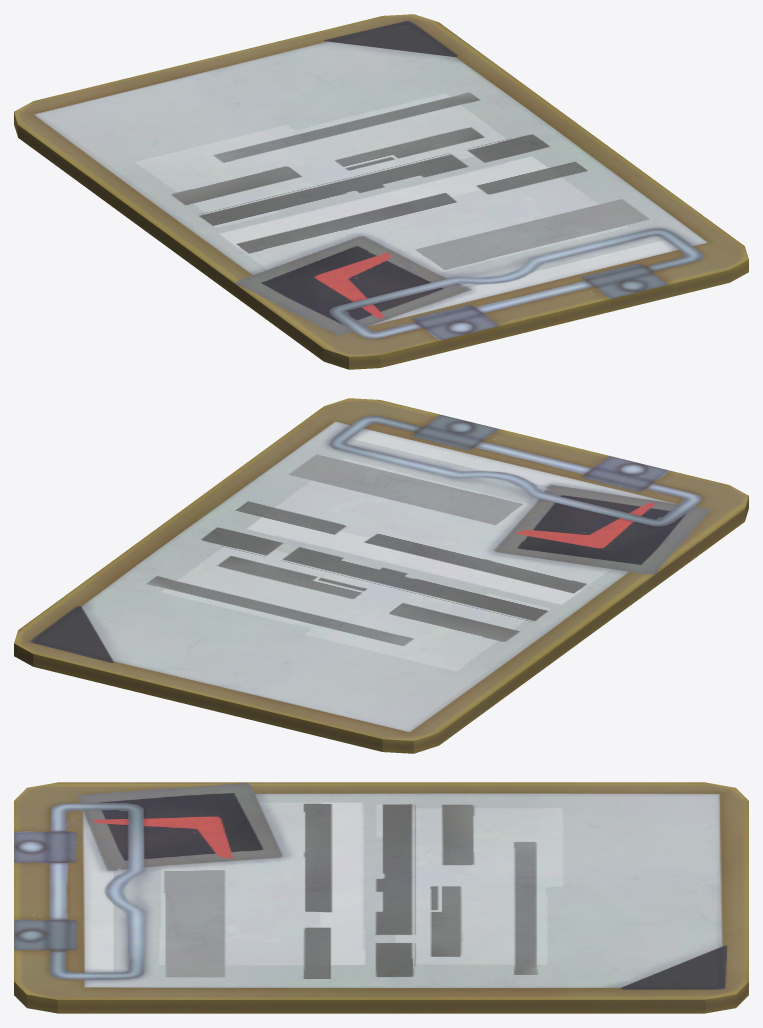
The model's file is P_OfficeSupplies_005_S1_M01.obj.
3 renders of one model, top to bottom at view 1: azimuth 30°, elevation 25°; view 2: azimuth 150°, elevation 25°; view 3: azimuth 270°, elevation 25°, orthographic. The views are drawn at different scales.
Bounding box in the file's own units: 0.4574 × 0.0133 × 0.6533.
Materials: 1 (1 with a texture image).
